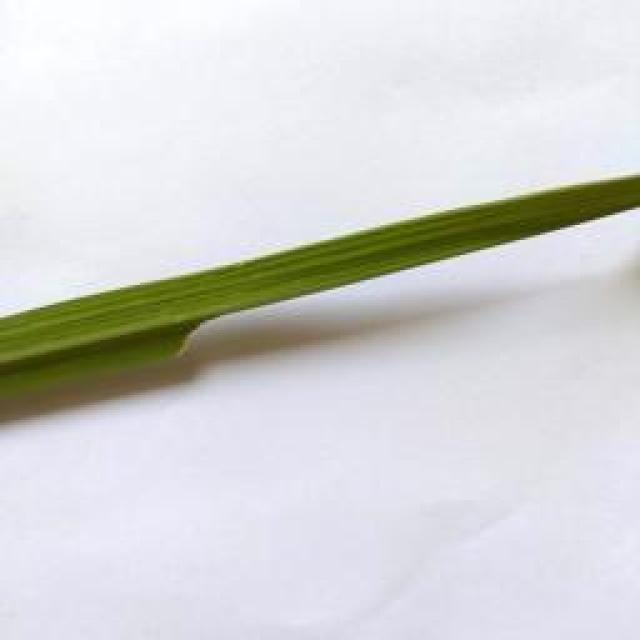Healthy-Plant: (6, 170, 640, 310), (0, 278, 161, 409)
